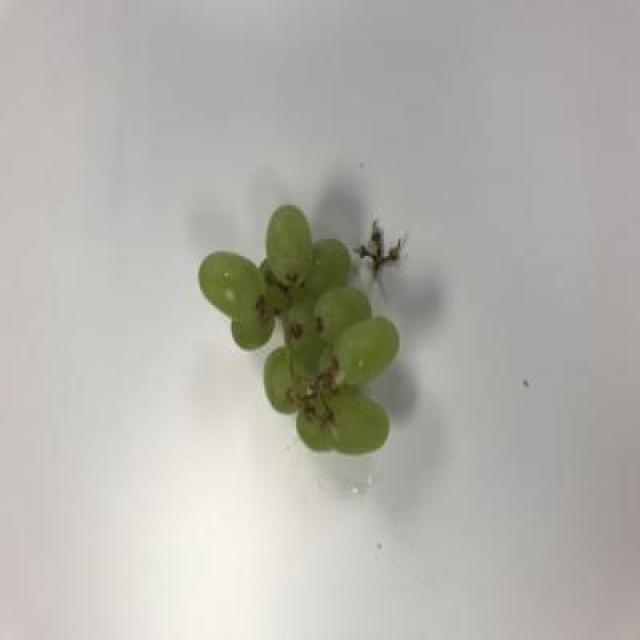compost: (197, 185, 422, 474)
